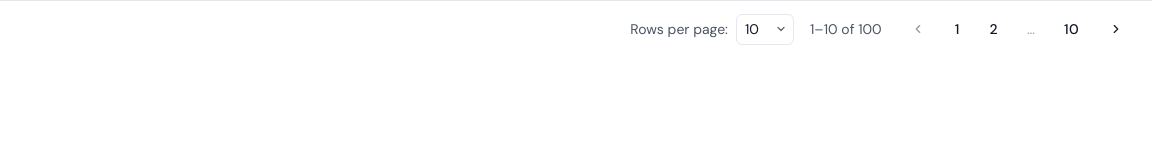
Test case: PaginatorComponent › Navigation › navigates to next page on next click
Step 1. Click the button named "Next page" → click(1116, 29), box [1096,13,1136,45]
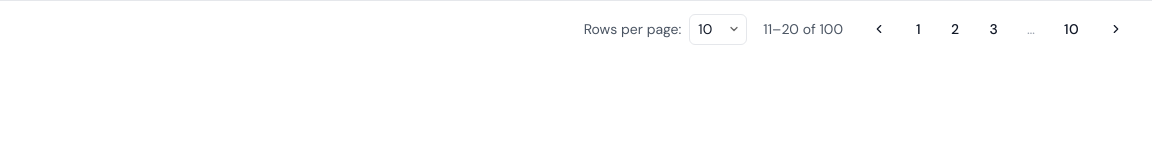
Check: the text with class "ea-paginator__range" reads "11–20 of 100", box [763,20,843,38]
